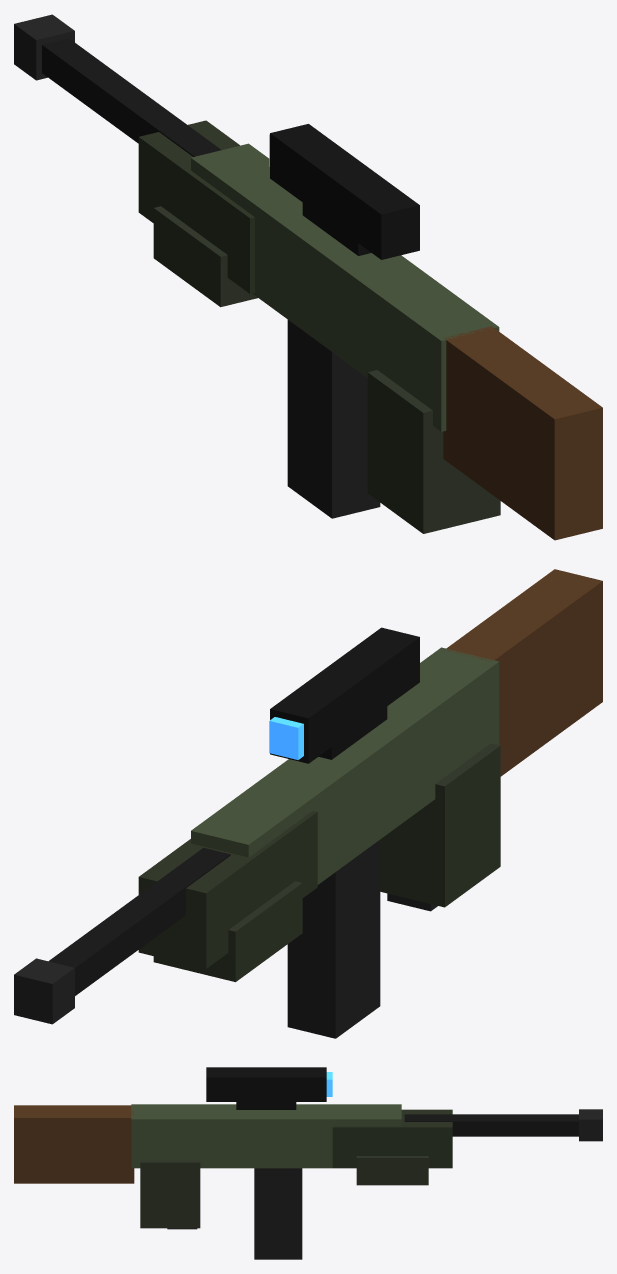
The model's file is rifle.glb.
3 views of the same model, one above another, from view 1: azimuth 30°, elevation 25°; view 2: azimuth 150°, elevation 25°; view 3: azimuth 270°, elevation 25° (orthographic). The views are drawn at different scales.
Parts seen in each view (by area): view 1: Cuerpo, Culata, Cargador, Mano, Mira, Guardamanos, Canon, ManoDelantera, Apagallamas, SoporteMira; view 2: Cuerpo, Culata, Cargador, Mano, Guardamanos, Mira, Canon, ManoDelantera, Apagallamas, Lente, SoporteMira; view 3: Cuerpo, Culata, Guardamanos, Cargador, Mira, Mano, Canon, ManoDelantera, Apagallamas, SoporteMira.
Boxes of the visible parts, x1,y1,x2,y2 form: Cuerpo: [191, 143, 499, 431]; Culata: [443, 326, 602, 540]; Cargador: [287, 320, 380, 518]; Mano: [367, 370, 500, 533]; Mira: [270, 124, 419, 259]; Guardamanos: [138, 120, 254, 293]; Canon: [42, 38, 221, 156]; ManoDelantera: [153, 206, 257, 307]; Apagallamas: [14, 14, 74, 80]; SoporteMira: [302, 203, 371, 255]; Cuerpo: [191, 647, 499, 884]; Culata: [444, 569, 602, 776]; Cargador: [287, 840, 380, 1038]; Mano: [380, 743, 500, 907]; Guardamanos: [138, 811, 317, 968]; Mira: [270, 627, 419, 763]; Canon: [49, 847, 230, 995]; ManoDelantera: [153, 881, 302, 982]; Apagallamas: [14, 958, 74, 1024]; Lente: [269, 717, 303, 759]; SoporteMira: [318, 706, 387, 759]; Cuerpo: [131, 1104, 401, 1168]; Culata: [14, 1105, 134, 1183]; Guardamanos: [332, 1109, 452, 1168]; Cargador: [254, 1168, 302, 1259]; Mira: [206, 1067, 326, 1101]; Mano: [140, 1160, 200, 1228]; Canon: [404, 1114, 578, 1136]; ManoDelantera: [356, 1156, 428, 1185]; Apagallamas: [579, 1109, 602, 1141]; SoporteMira: [236, 1102, 296, 1109].
Size of the model in its own units: 0.085 by 0.3325 by 0.98.
